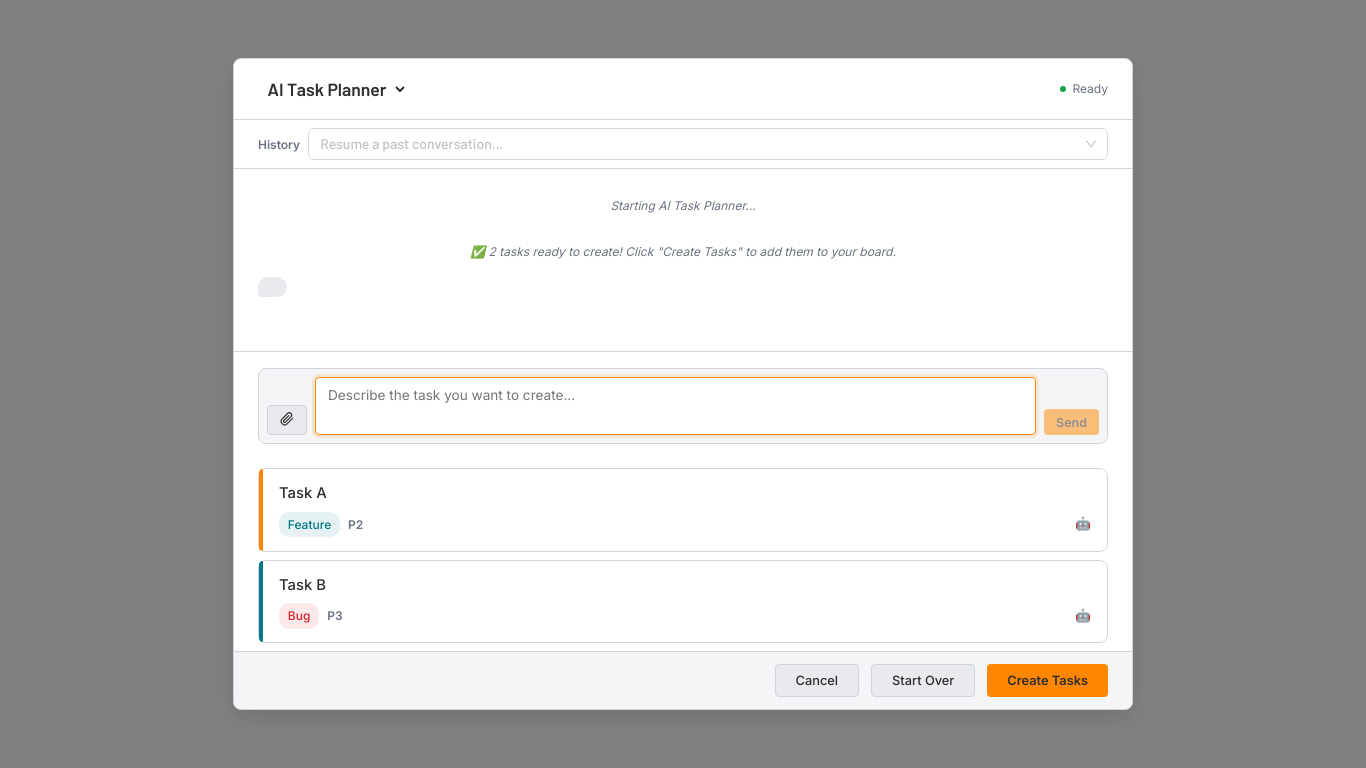
Test case: TaskPlannerModal - multi-task batch support › keeps modal open and shows error on partial failure
Click the button "Create Tasks": {"x": 1048, "y": 681} [987,664,1108,697]
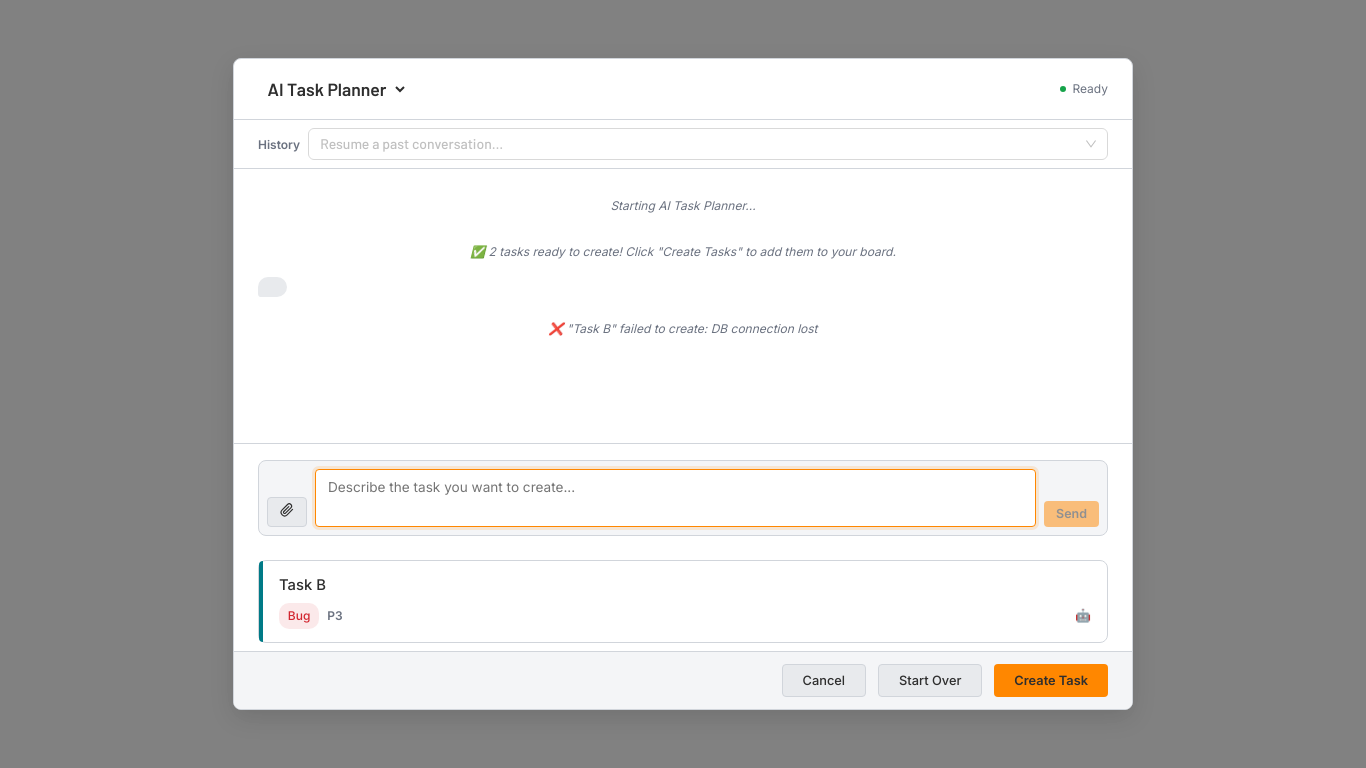
Result: the text "❌ \"Task B\" failed to create: DB connection lost" is shown at [548,320,818,338]
